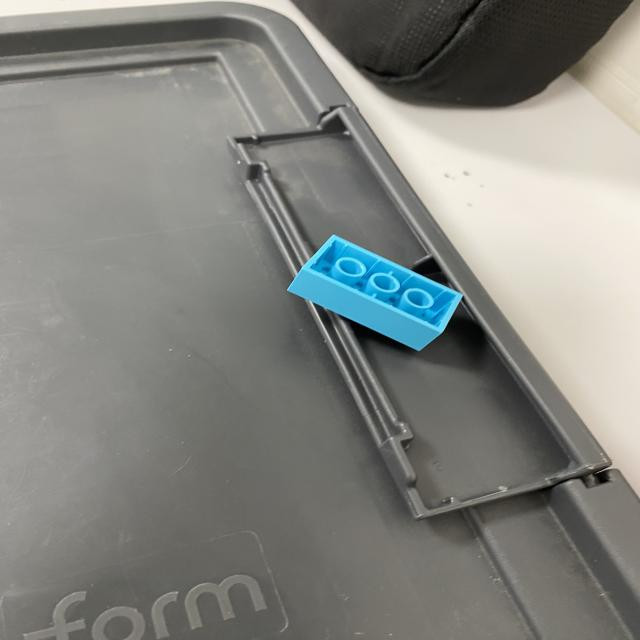C4x2x1: (285, 234, 464, 350)
